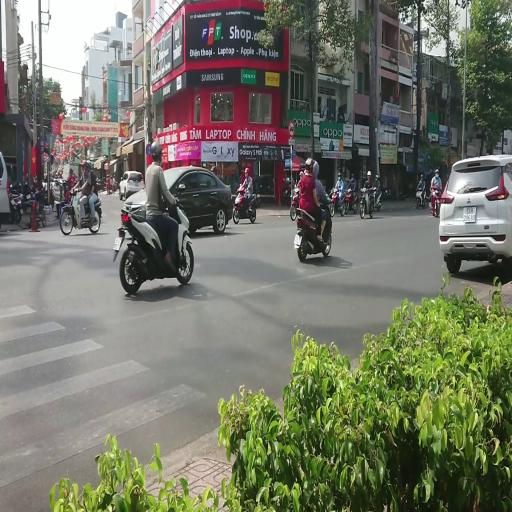bikes: (112, 192, 194, 294), (293, 194, 332, 262), (60, 186, 102, 235), (8, 180, 46, 228), (232, 186, 258, 224), (30, 186, 46, 227), (8, 181, 23, 223), (359, 186, 375, 218), (329, 187, 345, 216), (429, 186, 442, 216), (344, 187, 358, 214), (290, 184, 300, 220), (372, 175, 382, 210), (281, 178, 294, 204), (326, 188, 336, 216), (415, 184, 426, 209), (252, 178, 260, 208), (58, 179, 68, 200), (95, 176, 105, 191), (106, 174, 112, 195), (111, 175, 118, 192)
helmet: (150, 142, 162, 156), (305, 157, 314, 171), (312, 160, 319, 178), (80, 159, 87, 166), (86, 161, 92, 169), (244, 168, 250, 174), (210, 165, 216, 171), (299, 171, 304, 176), (375, 174, 379, 180), (367, 171, 371, 176), (69, 168, 73, 173), (435, 169, 439, 173), (421, 174, 424, 179), (351, 173, 354, 178), (338, 172, 340, 177), (436, 171, 438, 176)
